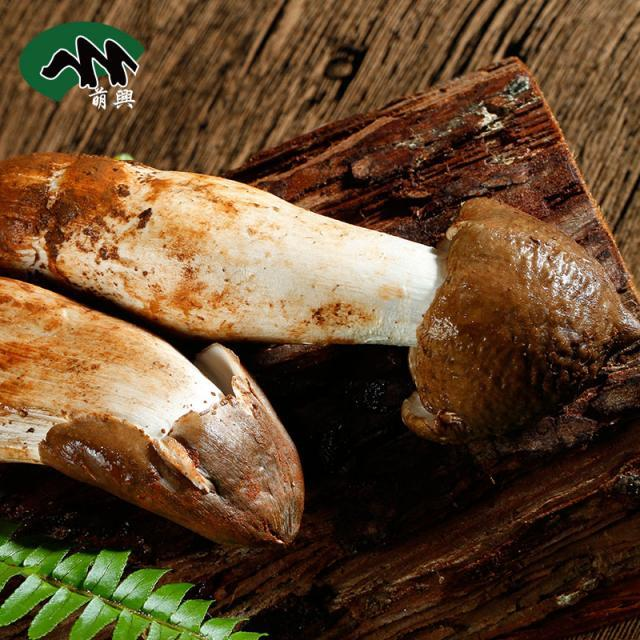Collybia albuminosa: (0, 157, 624, 423), (0, 280, 304, 543)
